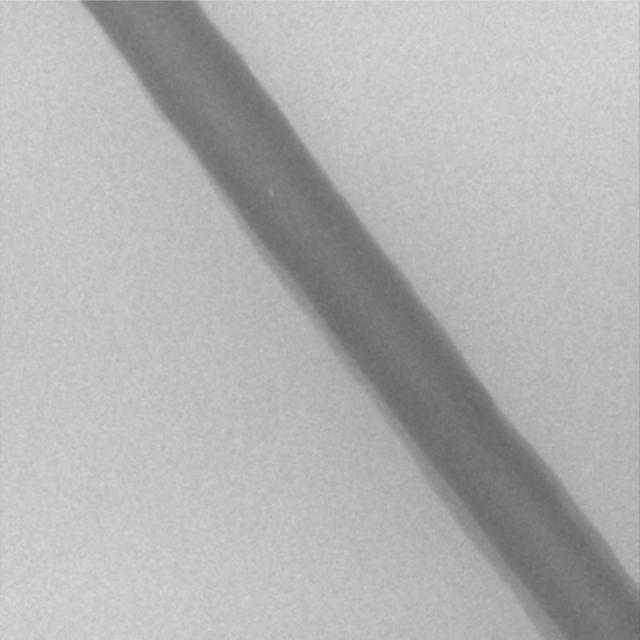air hole: (266, 188, 274, 198)
